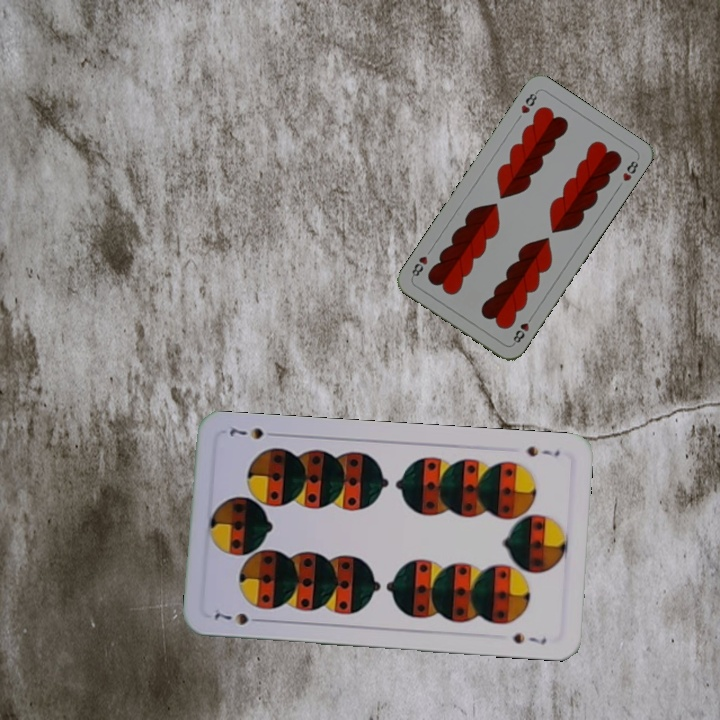H8: (509, 311, 536, 347), (517, 87, 540, 116)
S7: (210, 608, 266, 628), (521, 442, 562, 460)
